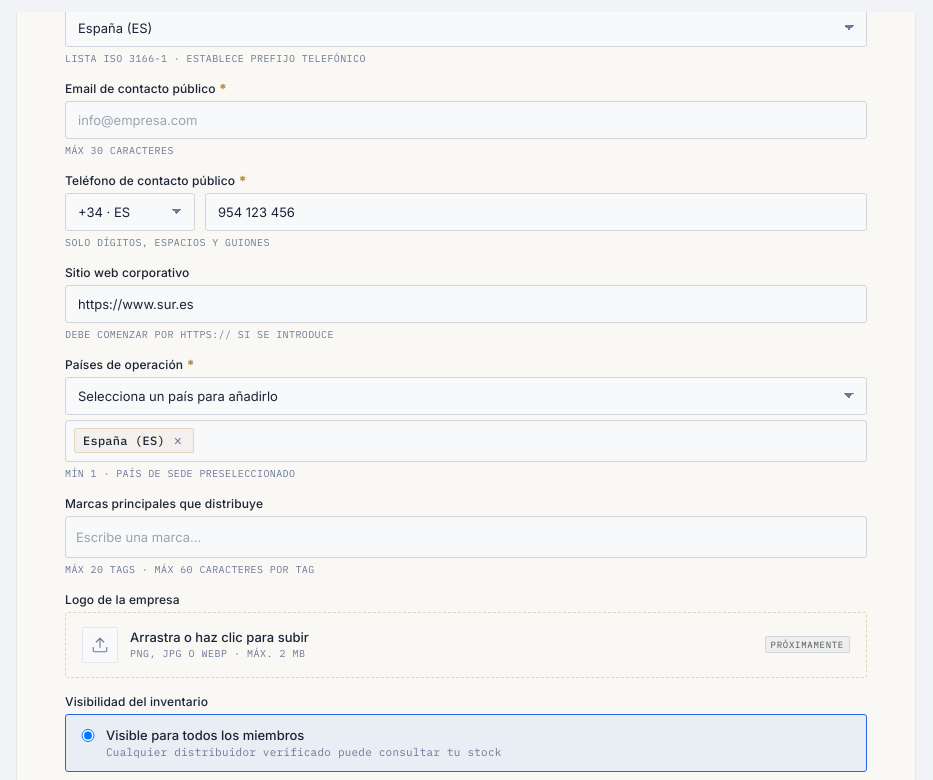
REG-01 · etiquetas de países y de marcas › un país ya elegido deja de ofrecerse, y al quitarlo vuelve a ofrecerse
The image size is (933, 780).
(page scrolled)
Select "Alemania (DE)" in the dropdown labelled "Países de operación" at (466, 396), box [65, 377, 867, 415]
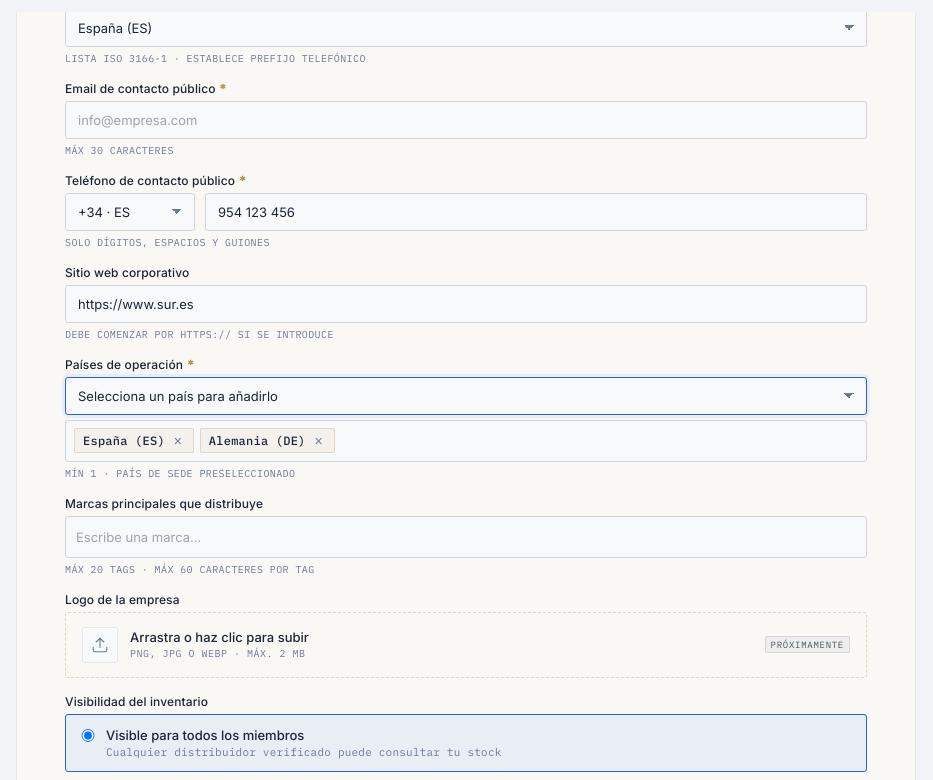
Click the button named "Eliminar Alemania (DE)" at (319, 441), box [312, 434, 326, 448]
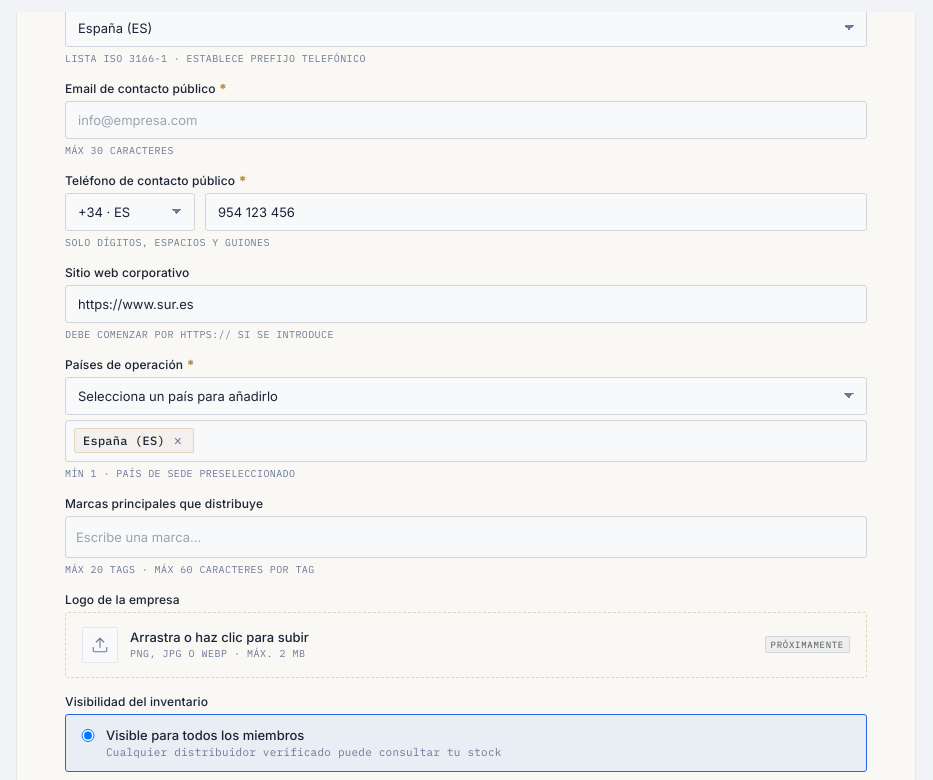
Expected: the text "Alemania (DE)" is not shown
